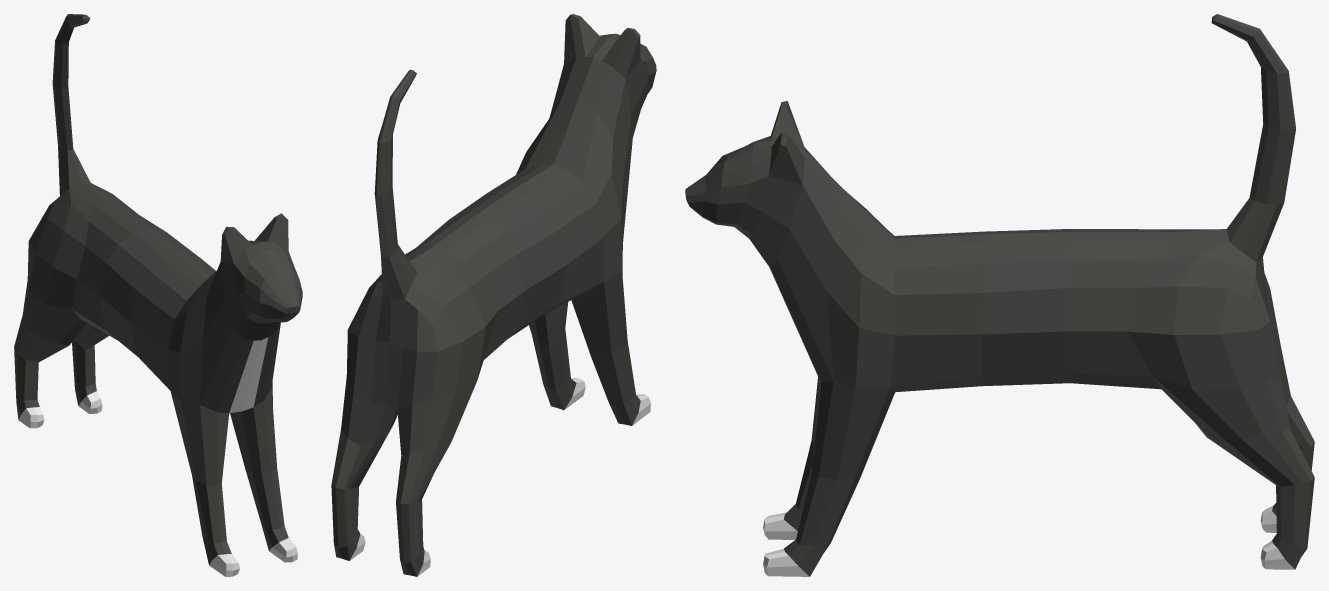
The model's file is 02catFinal.fbx.
3 views of the same model, side by side, from view 1: azimuth 30°, elevation 25°; view 2: azimuth 150°, elevation 25°; view 3: azimuth 270°, elevation 25° (orthographic). The views are drawn at different scales.
Visible parts, largest first — view 1: 02catFinal; view 2: 02catFinal; view 3: 02catFinal.
Part boxes in pixels (<box>): 02catFinal: <box>14,14,302,576</box>; 02catFinal: <box>331,14,656,576</box>; 02catFinal: <box>685,14,1314,576</box>.
Size of the model in its own units: 20.1 by 82.61 by 87.1.
